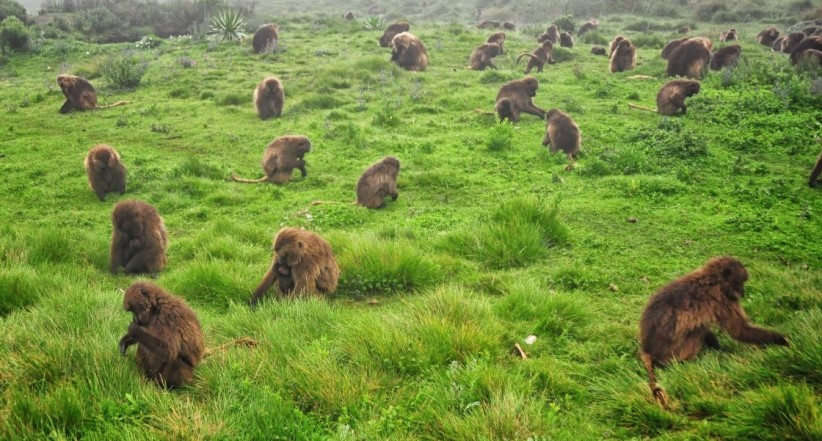Gelada: (650, 255, 766, 385), (115, 278, 222, 389), (262, 223, 341, 316), (100, 195, 170, 275), (354, 153, 410, 216), (260, 131, 312, 188), (51, 70, 112, 116), (78, 140, 126, 198), (542, 107, 584, 161), (494, 76, 540, 125), (671, 37, 713, 85), (652, 77, 701, 116), (254, 73, 290, 123), (469, 38, 502, 75), (523, 41, 555, 78), (394, 37, 428, 71), (715, 41, 743, 77), (251, 23, 280, 56), (613, 36, 635, 76), (382, 18, 406, 47), (758, 27, 779, 47), (561, 31, 574, 51)
